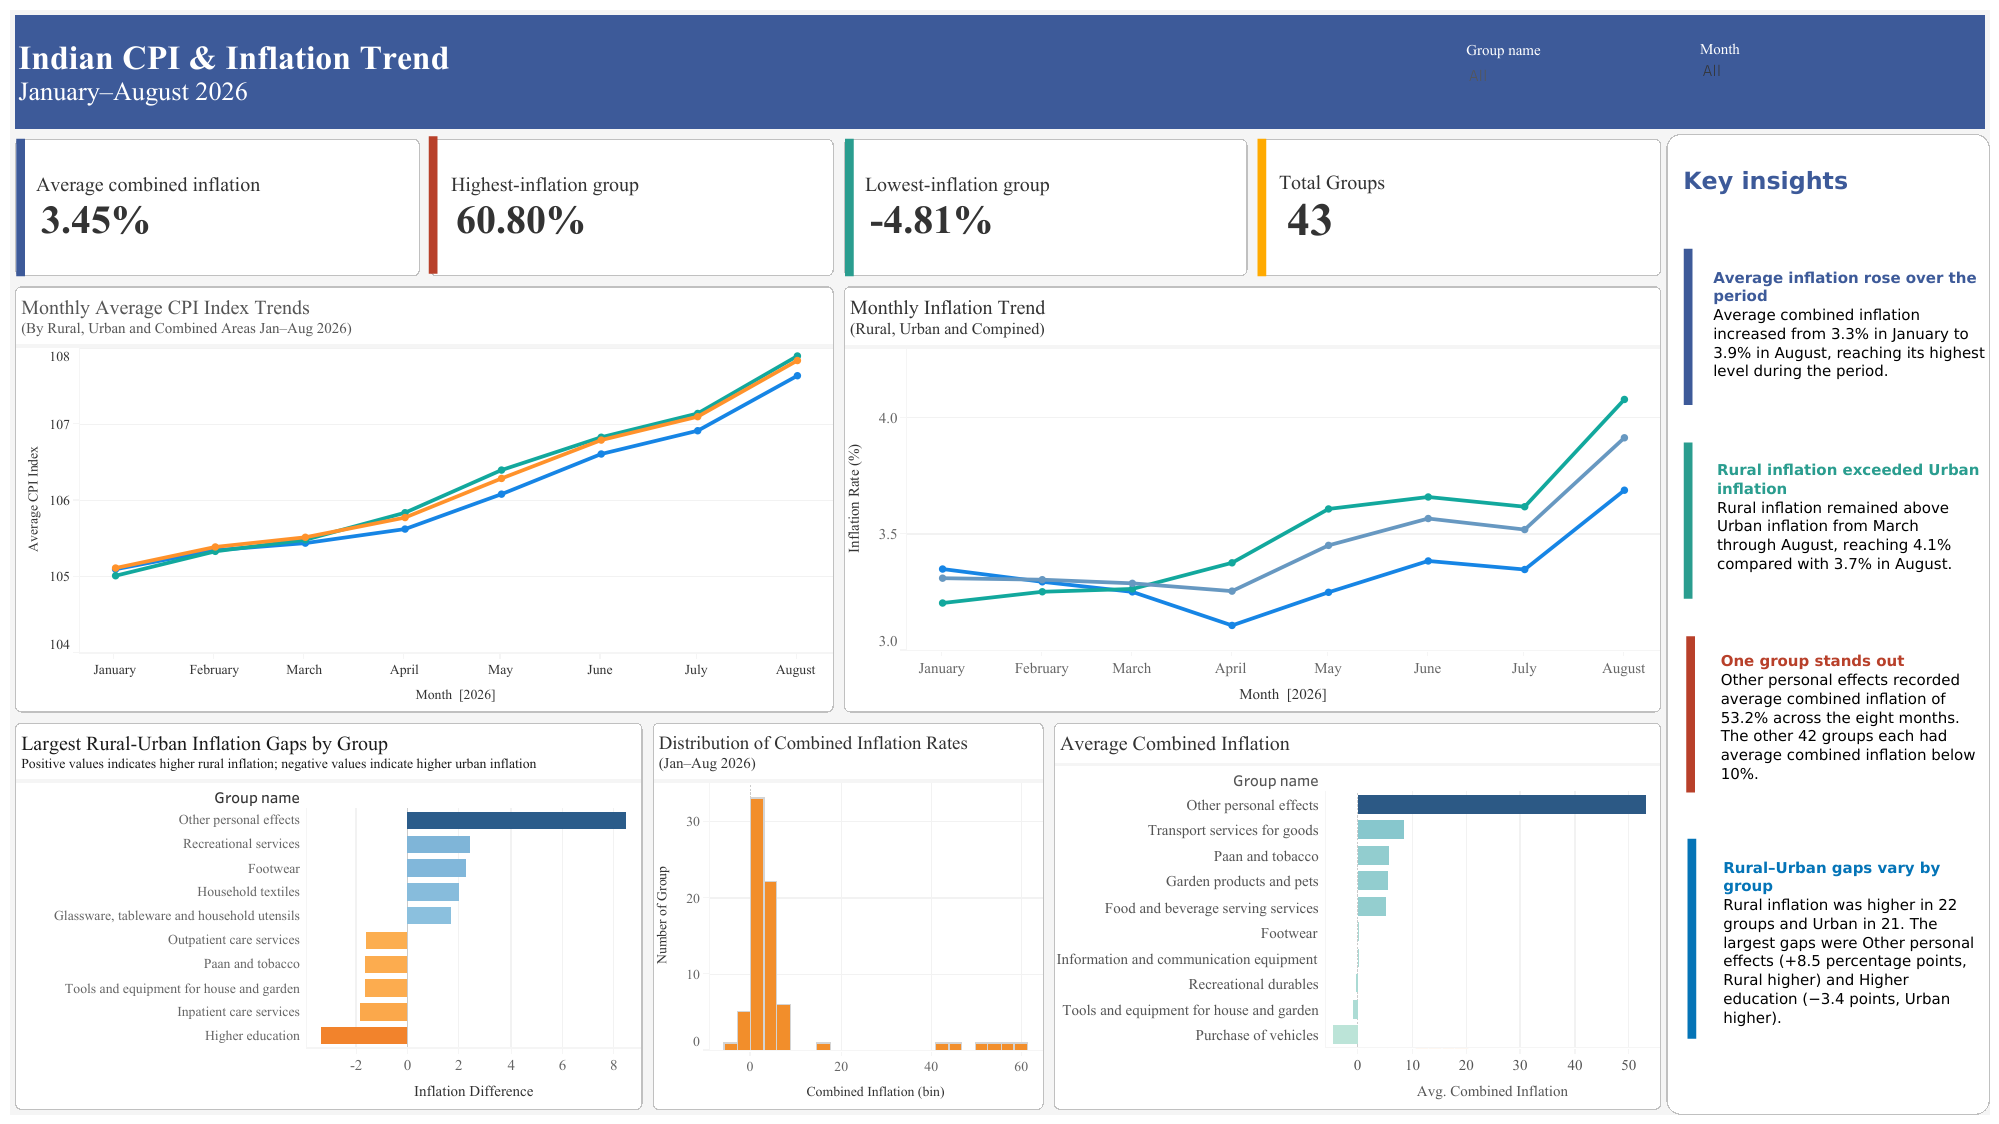

What the dashboard file says about the page in this screenshot:
{"tool":"tableau","page":{"name":"Dashboard 3","canvas":[1600,900],"ordinal":0},"visuals":[{"type":"text","box":[8,8,1584,99]},{"type":"filter","title":"UrbanRural","param":"[federated.0rhsjr118hofy111i740f0hwa43i].[mn:Month:ok]","box":[1360,28,168,61]},{"type":"filter","title":"topBottomInflation","param":"[federated.0rhsjr118hofy111i740f0hwa43i].[none:Group name:nk]","box":[1173,32,168,48]},{"type":"worksheet","title":"KPI Avg Inflation","mark":"Automatic","box":[8,107,332,118]},{"type":"worksheet","title":"KPI Max Inflation (2)","mark":"Automatic","box":[340,107,331,118]},{"type":"worksheet","title":"KPI min Inflation (3)","mark":"Automatic","box":[671,107,331,118]},{"type":"worksheet","title":"Total ","mark":"Automatic","box":[1002,107,331,118]},{"type":"blank","box":[343,109,7,110]},{"type":"blank","box":[13,111,7,110]},{"type":"blank","box":[676,111,7,110]},{"type":"blank","box":[1006,111,7,110]},{"type":"text","box":[1344,111,242,66]},{"type":"blank","box":[1347,199,7,125]},{"type":"text","box":[1368,200,223,118]},{"type":"worksheet","title":"monthlyIndex","mark":"Line","cols":["Month"],"box":[8,225,662,349]},{"type":"worksheet","title":"monthlyInflation","mark":"Automatic","cols":["Month"],"box":[670,225,663,349]},{"type":"text","box":[1371,347,216,132]},{"type":"blank","box":[1347,354,7,125]},{"type":"text","box":[1374,505,215,137]},{"type":"blank","box":[1349,509,7,125]},{"type":"worksheet","title":"UrbanRural","mark":"Automatic","rows":["Group name"],"cols":["Calculation_0762294232317952"],"box":[8,574,508.3,318]},{"type":"worksheet","title":"Histo","mark":"Automatic","rows":["Calculation_1346410191065090"],"cols":["Combined Inflation (bin)"],"box":[516.3,574,324.3,318]},{"type":"worksheet","title":"topBottomInflation","mark":"Automatic","rows":["Group name"],"cols":["Combined Inflation"],"box":[840.7,574,492.3,318]},{"type":"text","box":[1376,667,210,173]},{"type":"blank","box":[1350,671,7,160]}]}

Visuals, with their boxes in screenshot pixels (x1, y1, x2, y2), scaled from the page's 1600x900 canvas onto the 1999x1124 screenshot:
text: [left=10, top=10, right=1989, bottom=134]
"UrbanRural" filter: [left=1699, top=35, right=1909, bottom=111]
"topBottomInflation" filter: [left=1466, top=40, right=1675, bottom=100]
"KPI Avg Inflation" worksheet: [left=10, top=134, right=425, bottom=281]
"KPI Max Inflation (2)" worksheet: [left=425, top=134, right=838, bottom=281]
"KPI min Inflation (3)" worksheet: [left=838, top=134, right=1252, bottom=281]
"Total " worksheet: [left=1252, top=134, right=1665, bottom=281]
blank: [left=429, top=136, right=437, bottom=274]
blank: [left=16, top=139, right=25, bottom=276]
blank: [left=845, top=139, right=853, bottom=276]
blank: [left=1257, top=139, right=1266, bottom=276]
text: [left=1679, top=139, right=1982, bottom=221]
blank: [left=1683, top=249, right=1692, bottom=405]
text: [left=1709, top=250, right=1988, bottom=397]
"monthlyIndex" worksheet (Line marks): [left=10, top=281, right=837, bottom=717]
"monthlyInflation" worksheet: [left=837, top=281, right=1665, bottom=717]
text: [left=1713, top=433, right=1983, bottom=598]
blank: [left=1683, top=442, right=1692, bottom=598]
text: [left=1717, top=631, right=1985, bottom=802]
blank: [left=1685, top=636, right=1694, bottom=792]
"UrbanRural" worksheet: [left=10, top=717, right=645, bottom=1114]
"Histo" worksheet: [left=645, top=717, right=1050, bottom=1114]
"topBottomInflation" worksheet: [left=1050, top=717, right=1665, bottom=1114]
text: [left=1719, top=833, right=1982, bottom=1049]
blank: [left=1687, top=838, right=1695, bottom=1038]
